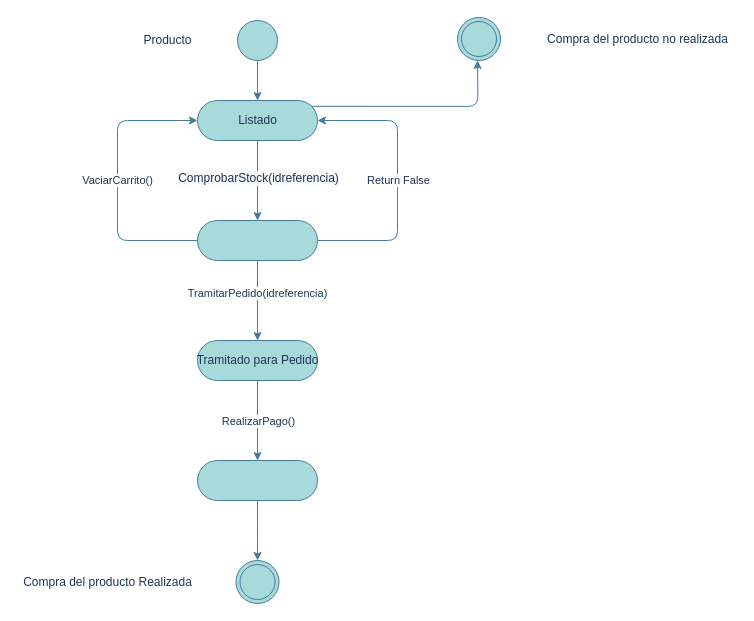
Image size: 754x621. Some labels were removed from this diagram. Each missing label, with the box of its shape:
Añadido al carrito: (196, 220, 318, 260)
Pagado: (196, 460, 318, 500)
